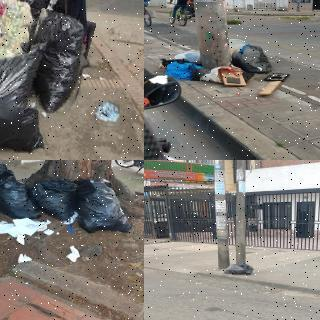Garbage: (21, 11, 90, 117), (0, 50, 52, 152), (73, 178, 135, 233), (28, 176, 77, 221), (0, 179, 43, 219), (231, 43, 276, 74), (165, 61, 202, 81), (0, 162, 17, 201), (222, 261, 257, 278), (96, 102, 120, 126), (189, 66, 211, 80)
